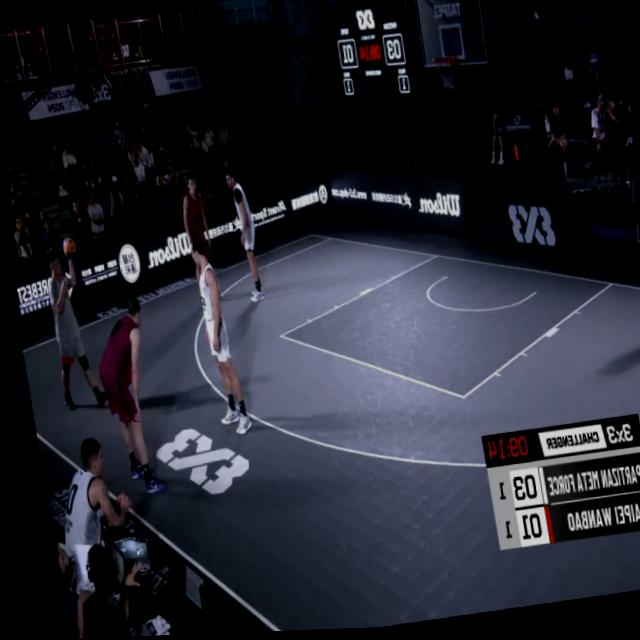ball: (57, 235, 76, 266)
hoop: (430, 54, 461, 97)
player: (88, 292, 165, 498), (184, 238, 243, 441), (223, 168, 263, 308), (174, 174, 212, 270)
